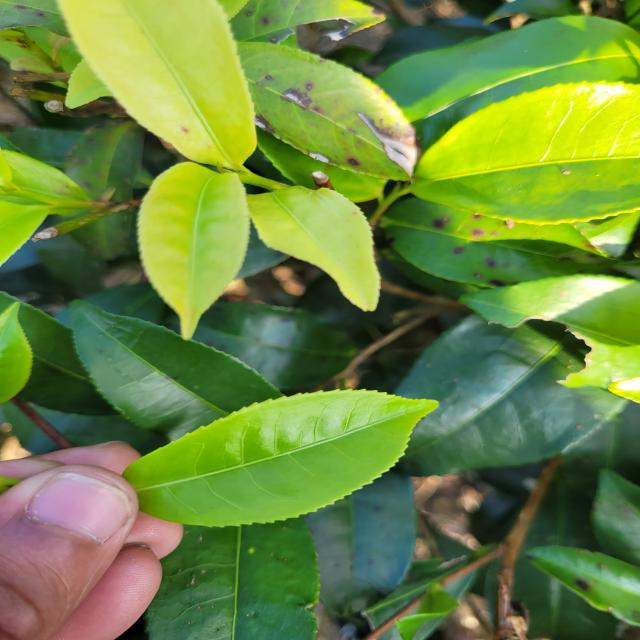Category B(2-4 days): (102, 369, 455, 551)
